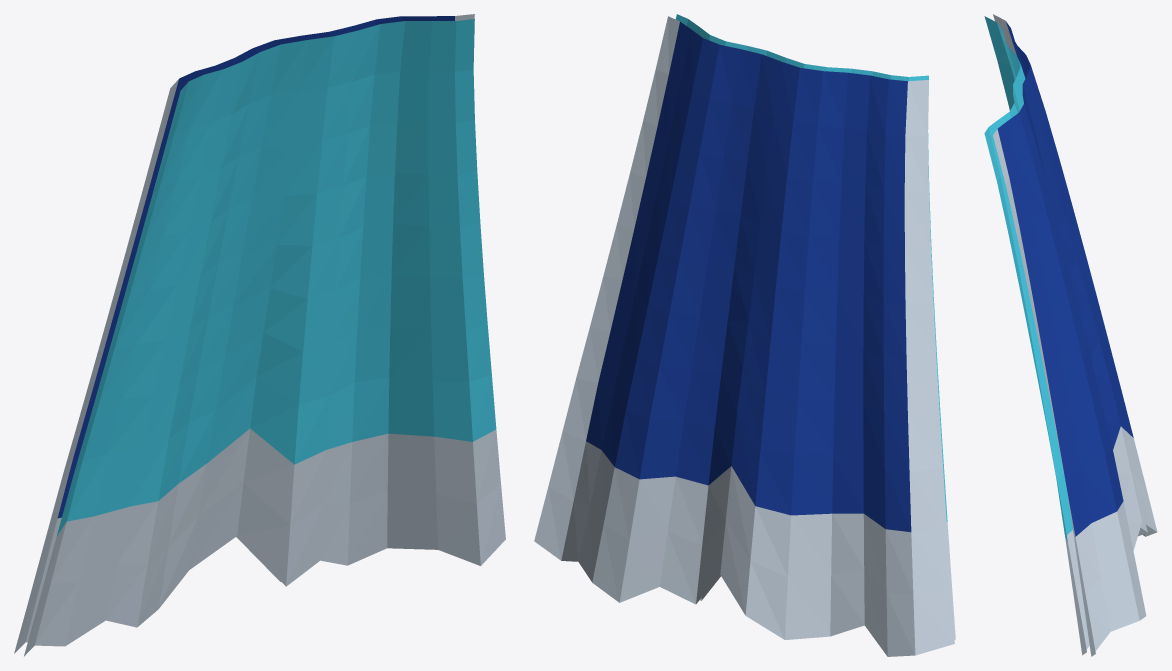
Rendered from Skin_StormCape.obj.
3 views of the same model, side by side, from view 1: azimuth 30°, elevation 25°; view 2: azimuth 150°, elevation 25°; view 3: azimuth 270°, elevation 25° (orthographic). The views are drawn at different scales.
Visible parts, largest first — view 1: Skin_StormCape_EmissiveCore, Skin_StormCape_TrimMetal, Skin_StormCape_BaseArmor; view 2: Skin_StormCape_BaseArmor, Skin_StormCape_TrimMetal, Skin_StormCape_EmissiveCore; view 3: Skin_StormCape_BaseArmor, Skin_StormCape_TrimMetal, Skin_StormCape_EmissiveCore.
Boxes of the visible parts, x1,y1,x2,y2 form: Skin_StormCape_EmissiveCore: (57, 19, 496, 535); Skin_StormCape_TrimMetal: (14, 14, 505, 656); Skin_StormCape_BaseArmor: (57, 16, 454, 518); Skin_StormCape_BaseArmor: (586, 21, 911, 532); Skin_StormCape_TrimMetal: (534, 16, 955, 656); Skin_StormCape_EmissiveCore: (675, 14, 947, 521); Skin_StormCape_BaseArmor: (997, 21, 1133, 536); Skin_StormCape_TrimMetal: (993, 14, 1157, 656); Skin_StormCape_EmissiveCore: (984, 16, 1072, 541).
Bounding box in the file's own units: 1.05 × 1.24 × 0.3922.
